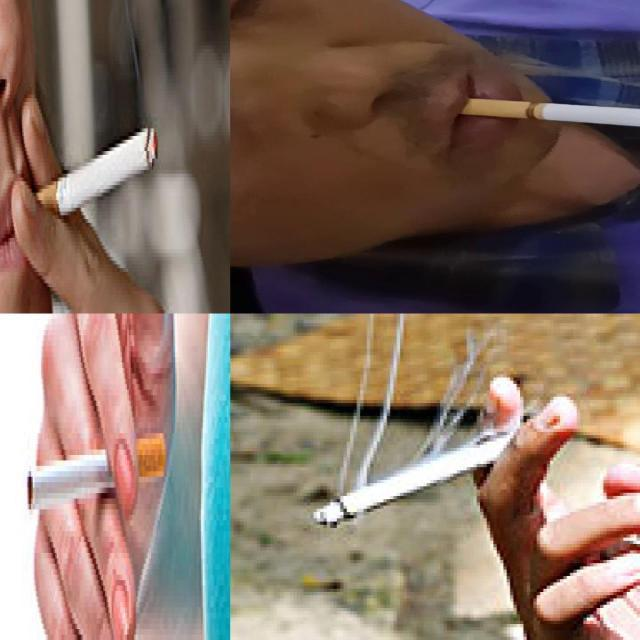smoking: (307, 432, 504, 528), (18, 122, 158, 235), (27, 432, 165, 512), (458, 96, 639, 138)
